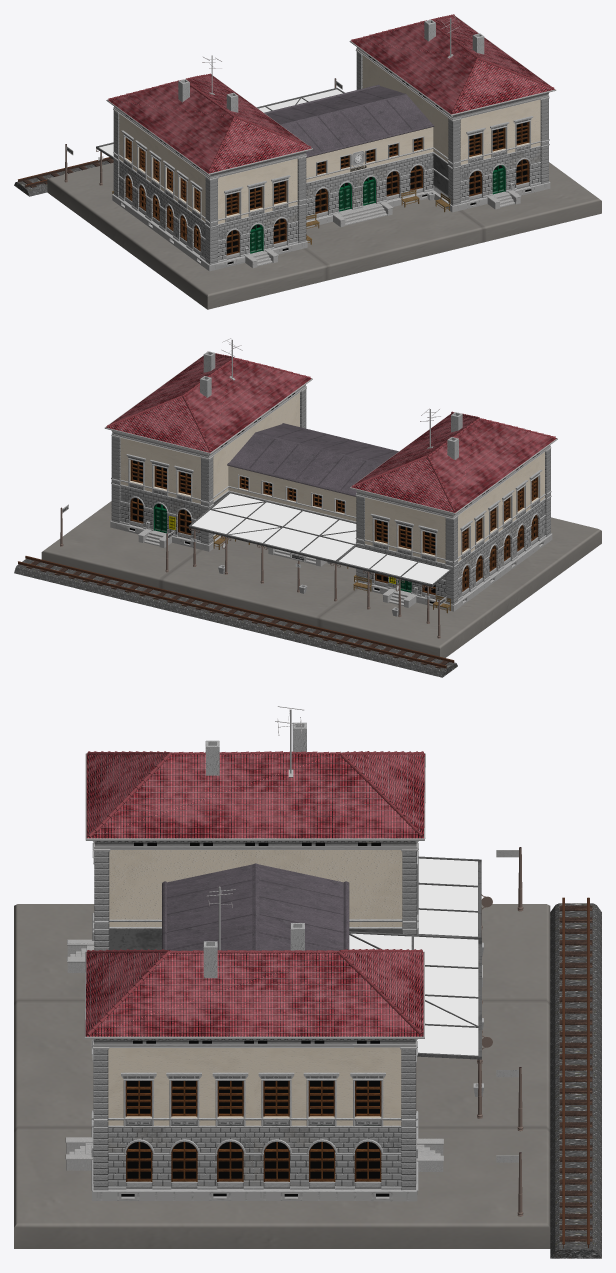
The model's file is istasyon.fbx.
3 renders of one model, top to bottom at view 1: azimuth 30°, elevation 25°; view 2: azimuth 150°, elevation 25°; view 3: azimuth 270°, elevation 25°, orthographic. The views are drawn at different scales.
Visible parts, largest first — view 1: polySurface331; view 2: polySurface331; view 3: polySurface331.
Part boxes in pixels (x1=…): polySurface331: x1=14, y1=14, x2=601, y2=309; polySurface331: x1=14, y1=338, x2=601, y2=677; polySurface331: x1=14, y1=706, x2=601, y2=1258.
Size of the model in its own units: 60.76 by 23.59 by 43.59.
Materials: 5 (4 with a texture image).
